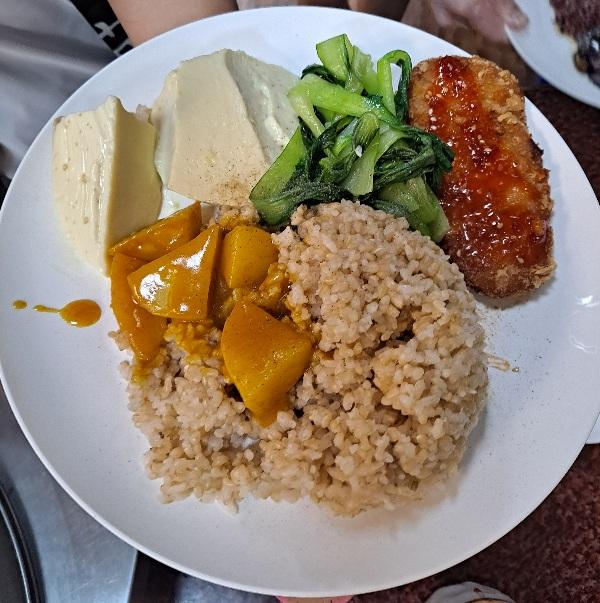big fried chicken leg: (6, 9, 598, 599)
box: (126, 205, 475, 519)
braised fish fillet: (60, 52, 303, 236), (103, 212, 300, 406), (284, 38, 436, 226)
braised pork: (407, 50, 567, 299)
